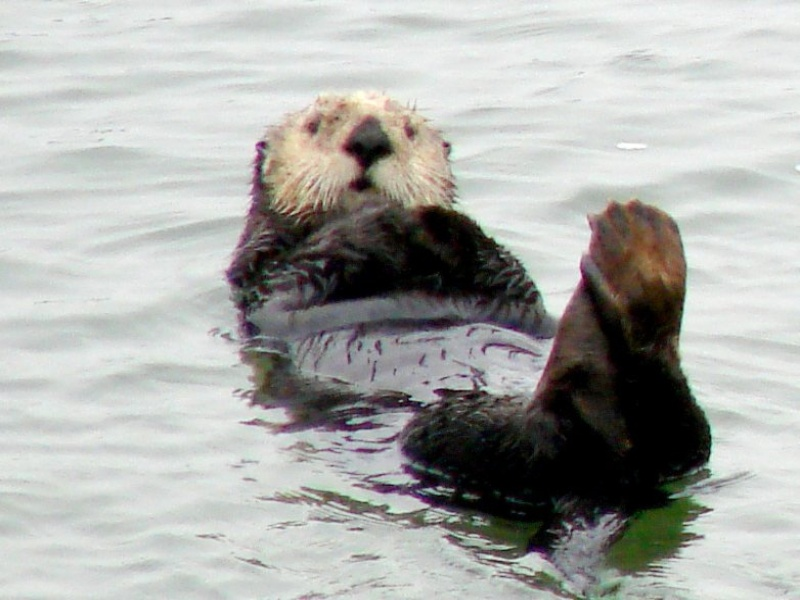minkish: (225, 97, 718, 565)
